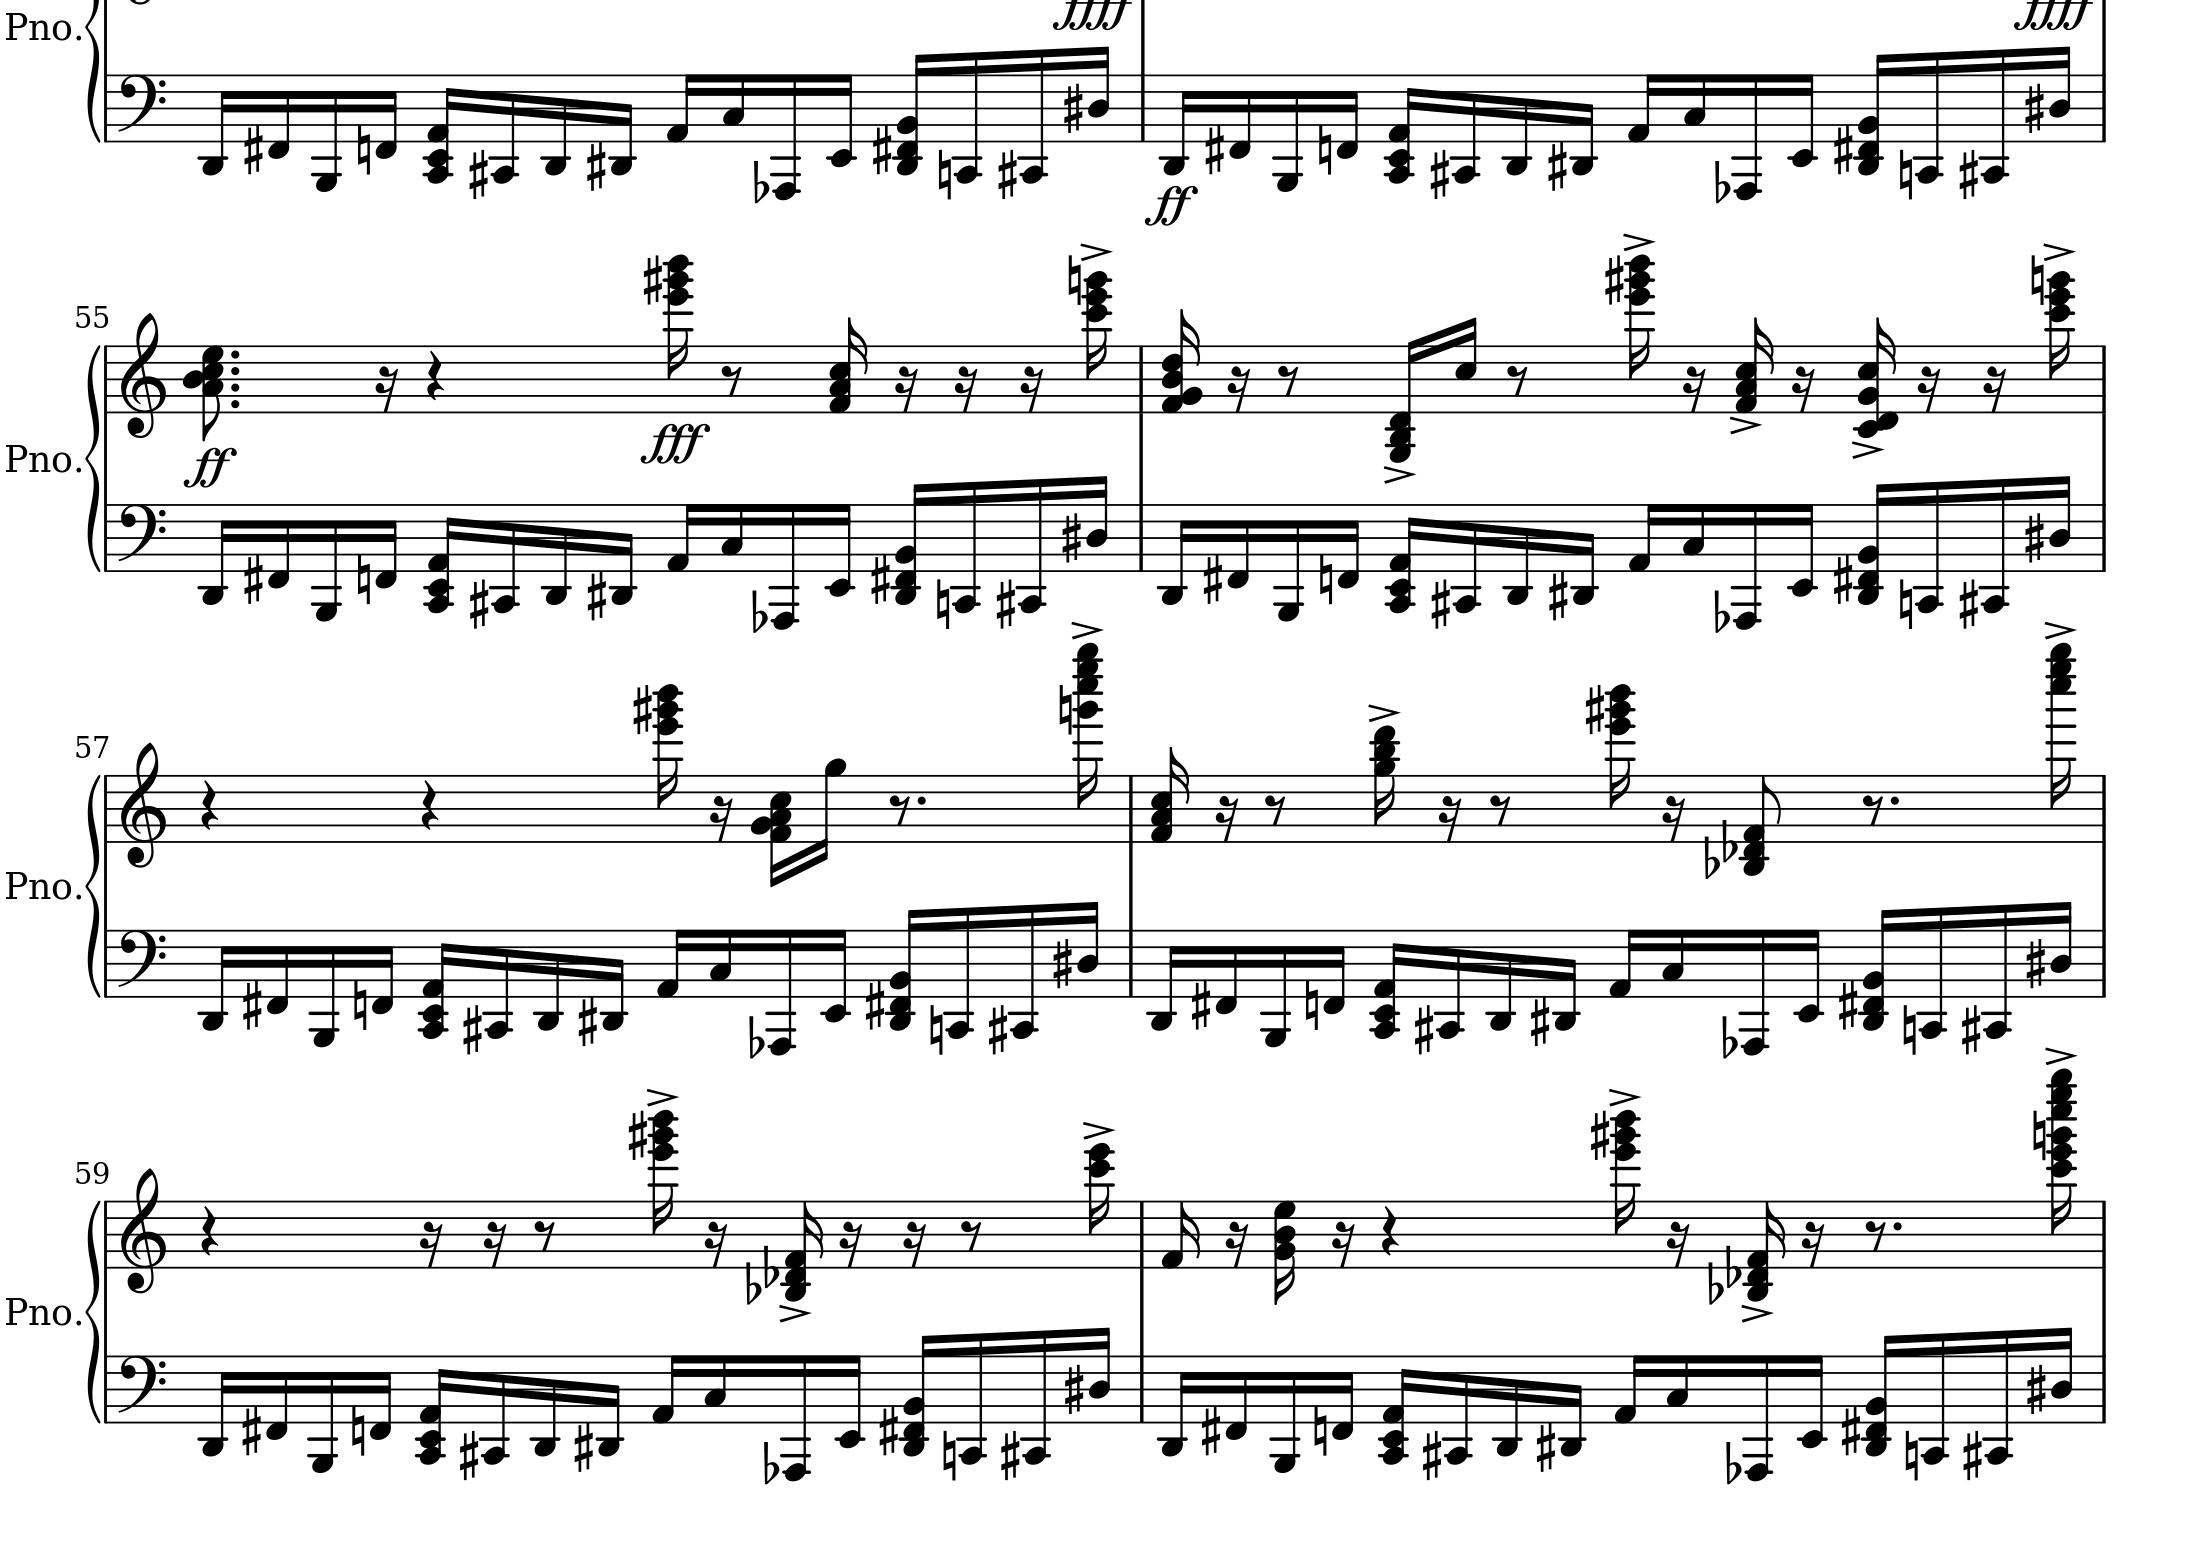16_-1: (1228, 71, 1254, 161), (1335, 71, 1360, 161), (266, 927, 291, 1017), (1225, 1352, 1250, 1441), (267, 73, 293, 161), (374, 73, 399, 161), (267, 502, 293, 590), (374, 502, 399, 590), (1226, 502, 1252, 590), (1336, 502, 1362, 590), (370, 929, 396, 1017), (1321, 929, 1347, 1017), (369, 1353, 394, 1441), (1331, 1353, 1357, 1441), (266, 1353, 291, 1440), (1215, 929, 1238, 1017)
16_-2: (1022, 1326, 1051, 1467), (1786, 501, 1817, 599), (820, 925, 849, 1023), (1793, 925, 1822, 1023), (836, 1352, 864, 1450), (1797, 1352, 1825, 1450), (1788, 71, 1817, 167), (826, 502, 854, 599), (827, 71, 854, 169)
16_-3: (196, 73, 233, 178), (196, 502, 233, 607), (1145, 927, 1182, 1032), (198, 929, 233, 1034), (198, 1353, 233, 1458), (1159, 1353, 1193, 1460), (1159, 502, 1193, 607), (1160, 73, 1194, 176), (607, 71, 638, 176), (1502, 502, 1533, 607), (541, 502, 572, 606), (1568, 71, 1597, 178), (1570, 501, 1599, 607), (1558, 1353, 1587, 1460), (1502, 73, 1531, 178), (609, 501, 638, 606), (535, 929, 563, 1034), (1487, 927, 1516, 1032), (1551, 927, 1580, 1032), (541, 73, 570, 176), (1494, 1353, 1522, 1456), (601, 927, 628, 1032), (595, 1353, 623, 1458), (531, 1353, 558, 1456)
16_-4: (1979, 475, 2010, 616), (1979, 46, 2010, 184), (1017, 477, 1047, 616), (1018, 46, 1049, 183), (1913, 49, 1944, 184), (1913, 479, 1944, 614), (944, 905, 974, 1039), (951, 477, 979, 616), (1010, 902, 1039, 1040), (952, 47, 981, 184), (957, 1330, 986, 1467), (1920, 1330, 1949, 1467), (1984, 1330, 2013, 1467), (1917, 903, 1945, 1039), (1983, 903, 2011, 1039), (1435, 925, 1465, 1040), (1443, 1353, 1473, 1465), (491, 501, 519, 614), (1451, 502, 1480, 616), (484, 927, 513, 1040), (480, 1353, 509, 1467), (491, 73, 519, 184), (1451, 73, 1480, 184)
16_-5: (1269, 1352, 1301, 1473), (308, 927, 338, 1054), (1260, 925, 1291, 1052), (311, 501, 342, 626), (311, 73, 342, 193), (1274, 73, 1304, 193), (1274, 499, 1303, 626), (308, 1353, 338, 1472)
16_-6: (780, 1352, 815, 1485), (1742, 1352, 1775, 1483), (1732, 501, 1764, 631), (766, 927, 798, 1056), (1739, 927, 1771, 1056), (771, 71, 802, 201), (1732, 73, 1763, 201), (770, 501, 800, 629)
16_1: (1160, 1199, 1201, 1270), (655, 927, 689, 1000), (650, 1353, 683, 1426), (1626, 73, 1660, 144), (665, 502, 699, 573), (1626, 502, 1660, 573), (1612, 1352, 1644, 1426), (1607, 927, 1639, 1000), (665, 73, 697, 144)
16_3: (721, 71, 748, 144), (1665, 1352, 1692, 1424), (1682, 73, 1709, 144), (719, 502, 746, 573), (1661, 927, 1687, 1000), (704, 1352, 729, 1424), (1682, 502, 1707, 573), (709, 929, 734, 1000)
16_4: (1084, 474, 1111, 573), (2049, 898, 2076, 998), (2049, 1324, 2076, 1424), (2049, 44, 2074, 144), (2049, 472, 2074, 572), (1076, 898, 1101, 998), (1088, 1324, 1113, 1424), (1088, 42, 1111, 142)
16_4th: (1073, 641, 1105, 847), (1854, 316, 1901, 438), (751, 775, 795, 886), (1159, 308, 1201, 416)
16_5: (1453, 315, 1479, 414)
16_9: (812, 754, 846, 864)
16_th: (1622, 254, 1661, 414), (2045, 643, 2076, 844), (1382, 333, 1428, 463), (1857, 910, 1905, 1034), (1861, 1335, 1907, 1456), (1605, 682, 1639, 846), (1852, 484, 1896, 607), (892, 484, 935, 607), (885, 910, 929, 1032), (1741, 1201, 1793, 1301), (1852, 51, 1895, 174), (651, 683, 683, 844), (663, 255, 695, 414), (413, 1355, 458, 1467), (1375, 1353, 1419, 1468), (1610, 1106, 1641, 1270), (897, 52, 937, 174), (648, 1108, 678, 1270), (416, 929, 458, 1045), (1384, 502, 1428, 614), (420, 506, 464, 617), (421, 73, 464, 186), (1369, 930, 1411, 1042), (780, 1201, 824, 1306), (900, 1335, 937, 1458), (2045, 271, 2076, 418), (1081, 269, 1111, 413), (826, 318, 870, 414), (1734, 316, 1778, 413), (1384, 81, 1421, 188), (1149, 744, 1188, 846), (1369, 721, 1401, 839), (1270, 1198, 1298, 1304)
5: (73, 732, 91, 760), (74, 301, 91, 330), (91, 301, 108, 330), (74, 1157, 91, 1186)
7: (91, 732, 112, 760)
8_4th: (179, 343, 227, 436)
8_th: (1739, 773, 1781, 876)
9: (91, 1157, 110, 1186)
Accent_above: (1365, 699, 1401, 722), (1078, 239, 1115, 260), (1847, 438, 1885, 460), (1067, 617, 1105, 639), (1605, 1084, 1643, 1106), (1621, 228, 1656, 250), (2042, 239, 2077, 260), (2042, 617, 2077, 639), (2042, 1044, 2077, 1066), (645, 1084, 680, 1106), (1081, 1116, 1116, 1138), (1380, 463, 1418, 484), (776, 1302, 814, 1323), (1737, 1302, 1775, 1323), (1727, 414, 1763, 435)
Brace: (83, 770, 101, 1000), (83, 1198, 101, 1424), (85, 342, 101, 573)
Fclef: (113, 71, 167, 144), (113, 501, 167, 573), (115, 927, 167, 995), (115, 1353, 167, 1419)
Flat: (1705, 1252, 1724, 1306), (749, 157, 770, 206), (1719, 1012, 1739, 1061), (1704, 827, 1722, 880), (1710, 157, 1731, 205), (748, 587, 768, 634), (1710, 587, 1731, 634), (744, 1013, 765, 1061), (1722, 1438, 1742, 1485), (1719, 817, 1737, 868), (760, 1438, 778, 1489), (761, 1243, 780, 1292), (744, 1253, 761, 1306), (1724, 1243, 1741, 1292)
Gclef: (118, 1165, 169, 1296), (118, 310, 167, 440), (118, 739, 167, 869)
Natural: (1292, 962, 1319, 1045), (350, 978, 369, 1032), (1066, 250, 1083, 308), (1896, 145, 1913, 201), (2028, 250, 2045, 306), (1896, 575, 1913, 631), (927, 1001, 944, 1057), (1900, 1001, 1917, 1057), (1313, 1402, 1330, 1458), (355, 122, 372, 176), (935, 147, 952, 201), (355, 551, 372, 606), (934, 577, 951, 631), (1318, 551, 1335, 606), (941, 1428, 957, 1482), (1316, 123, 1333, 176), (1303, 978, 1319, 1030), (348, 1404, 365, 1456), (1057, 682, 1073, 736), (2032, 1106, 2047, 1160), (1903, 1428, 1918, 1482)
Pno: (2, 8, 73, 47), (2, 1292, 74, 1330), (2, 868, 74, 903), (3, 441, 73, 477)
Rests16: (952, 364, 979, 414), (1436, 793, 1463, 844), (1330, 1220, 1357, 1269), (1665, 1220, 1692, 1269), (374, 364, 399, 414), (893, 364, 919, 414), (1018, 364, 1044, 414), (1226, 364, 1252, 414), (1682, 364, 1707, 414), (1791, 364, 1817, 414), (1917, 364, 1942, 414), (1981, 364, 2006, 414), (709, 793, 734, 844), (1661, 793, 1687, 844), (418, 1220, 443, 1270), (482, 1220, 507, 1270), (704, 1220, 729, 1270), (837, 1220, 863, 1270), (902, 1220, 927, 1270), (1800, 1220, 1825, 1270), (1215, 793, 1238, 844), (1225, 1220, 1248, 1269)
Rests4: (196, 778, 220, 832), (418, 778, 440, 832), (198, 1204, 220, 1259), (425, 348, 445, 403), (1379, 1204, 1399, 1259)
Rests8: (719, 362, 744, 398), (531, 1216, 557, 1252), (1262, 792, 1287, 825), (1276, 362, 1299, 398), (1506, 362, 1529, 398), (888, 792, 912, 827), (1861, 792, 1885, 827), (957, 1216, 981, 1252), (1863, 1216, 1886, 1252), (1489, 792, 1512, 825)
Sharp: (1835, 978, 1861, 1032), (870, 122, 893, 178), (868, 551, 892, 607), (1059, 509, 1083, 565), (626, 1106, 650, 1162), (1839, 1402, 1863, 1458), (1830, 123, 1854, 178), (863, 978, 886, 1032), (2023, 935, 2047, 990), (876, 1404, 900, 1458), (1061, 81, 1084, 134), (1830, 553, 1854, 606), (2023, 509, 2045, 565), (2025, 1362, 2047, 1418), (641, 252, 663, 306), (1604, 252, 1626, 306), (585, 568, 607, 622), (631, 682, 653, 736), (1583, 682, 1605, 736), (240, 978, 262, 1032), (1051, 935, 1073, 990), (1189, 978, 1211, 1032), (1062, 1362, 1084, 1416), (585, 140, 607, 193), (996, 147, 1018, 200), (1428, 147, 1450, 200), (1546, 140, 1568, 193), (1957, 147, 1979, 200), (2023, 81, 2045, 134), (242, 553, 264, 606), (1201, 553, 1223, 606), (1546, 570, 1568, 622), (1413, 1003, 1435, 1056), (1588, 1108, 1610, 1160), (1199, 1404, 1221, 1456), (1534, 1421, 1556, 1473), (1203, 123, 1225, 174), (1957, 579, 1979, 629), (986, 1005, 1008, 1056), (242, 123, 262, 176), (467, 147, 487, 200), (469, 577, 489, 629), (1429, 577, 1450, 629), (462, 1003, 482, 1056), (1529, 996, 1550, 1049), (1961, 1003, 1981, 1056), (240, 1404, 261, 1456), (458, 1429, 479, 1482), (573, 1421, 594, 1473), (1000, 1429, 1020, 1482), (1421, 1429, 1441, 1482), (1962, 1429, 1983, 1482), (995, 579, 1015, 629), (577, 996, 597, 1047)
Single_barline: (1132, 502, 1150, 570), (1122, 929, 1140, 996), (1132, 1355, 1150, 1423), (1132, 347, 1150, 413), (1122, 776, 1140, 841), (1133, 1199, 1150, 1269), (2094, 502, 2111, 570), (2094, 929, 2111, 996), (2094, 1199, 2111, 1267), (2094, 1355, 2111, 1423), (1133, 74, 1150, 140), (2094, 74, 2111, 140), (2094, 345, 2111, 411), (2094, 775, 2111, 841), (100, 930, 115, 995), (100, 1199, 113, 1269), (100, 345, 113, 413), (100, 74, 113, 140), (100, 504, 113, 570), (100, 775, 113, 841), (100, 1357, 113, 1423)
dot: (228, 347, 242, 360), (915, 793, 929, 807), (228, 364, 242, 376), (228, 381, 242, 392), (228, 398, 242, 409), (1891, 1220, 1905, 1231), (1890, 793, 1901, 805)
ff: (1144, 181, 1199, 228), (183, 443, 239, 489)
fff: (639, 421, 710, 465)
ffff: (1049, 2, 1133, 34), (2011, 2, 2096, 34)
